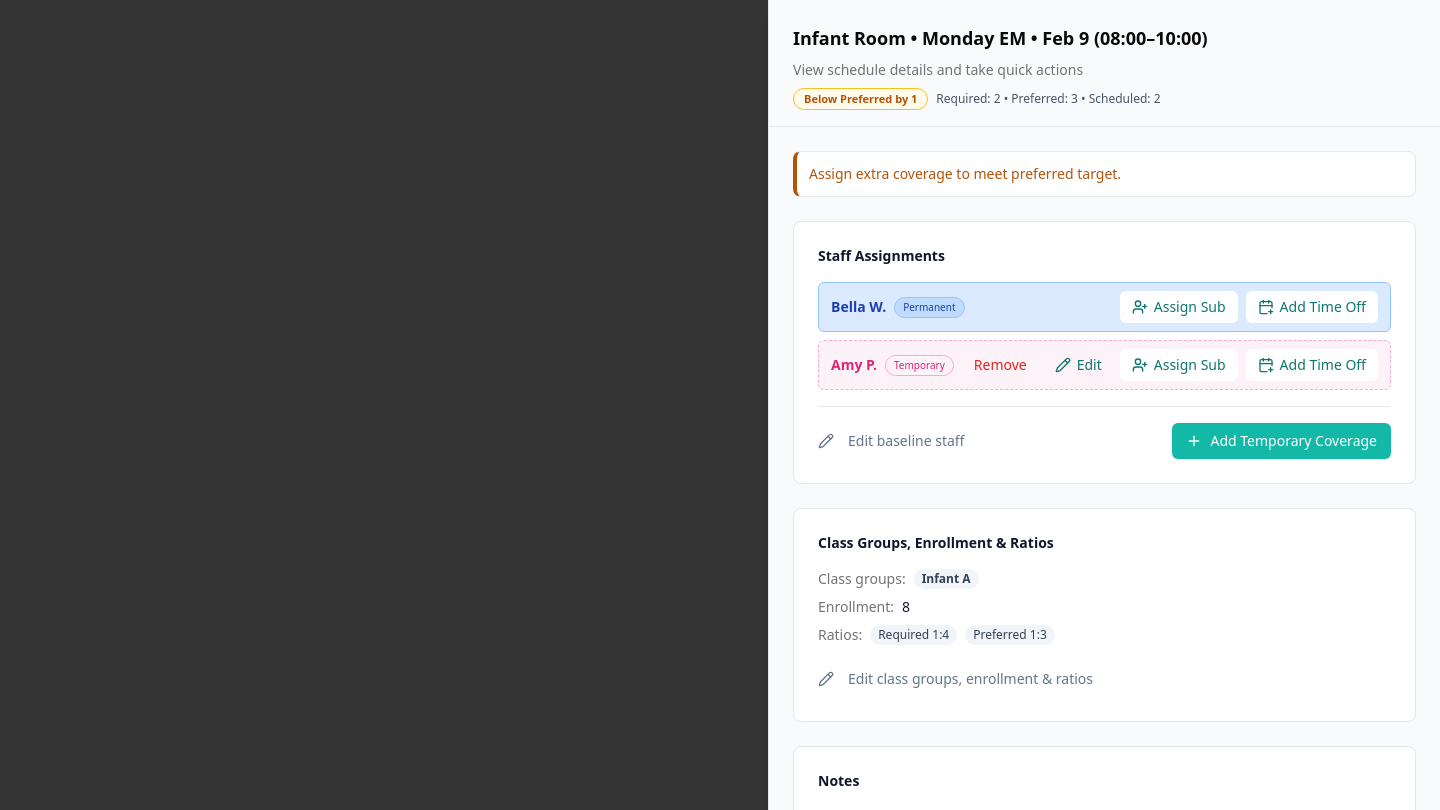
ScheduleSidePanel interactions › opens remove flex dialog and shows multi-shift choices
Expected: the text "Bella W." is shown, 831,297 -> 886,317
Click the button "Remove" at (1000, 365), box 964,349 -> 1037,381
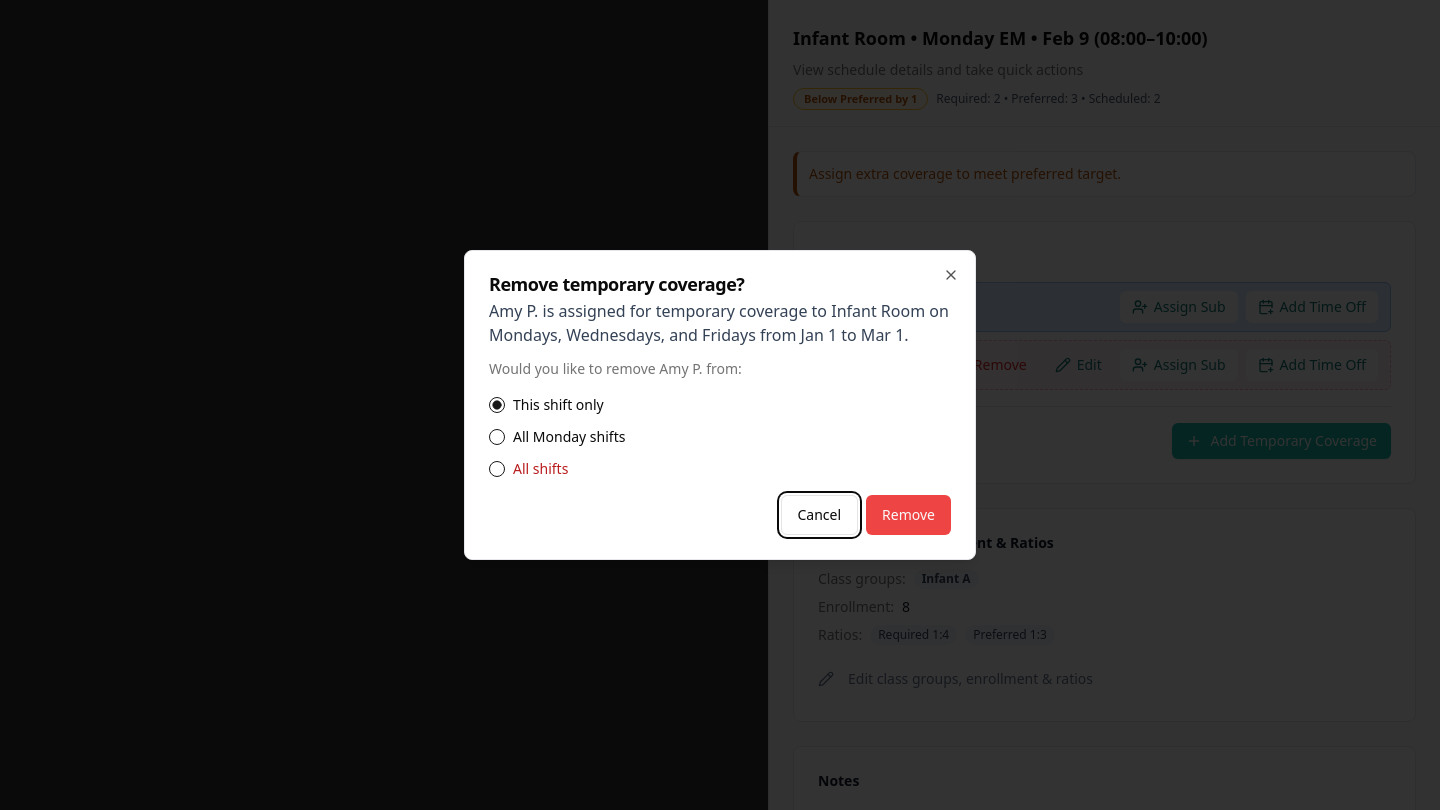
Expected: the heading "Remove temporary coverage?" is shown, 489,272 -> 744,296
Expected: the text "This shift only" is shown, 489,395 -> 604,414
Expected: the text "Amy P. is assigned for temporary coverage to Infant Room" is shown, 489,300 -> 949,346
